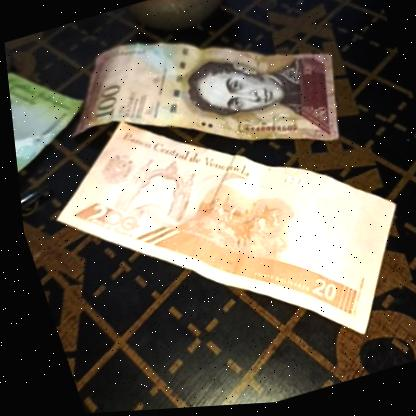fifty-front-vef: (5, 52, 120, 239)
twenty-back-vef: (20, 51, 416, 410)
